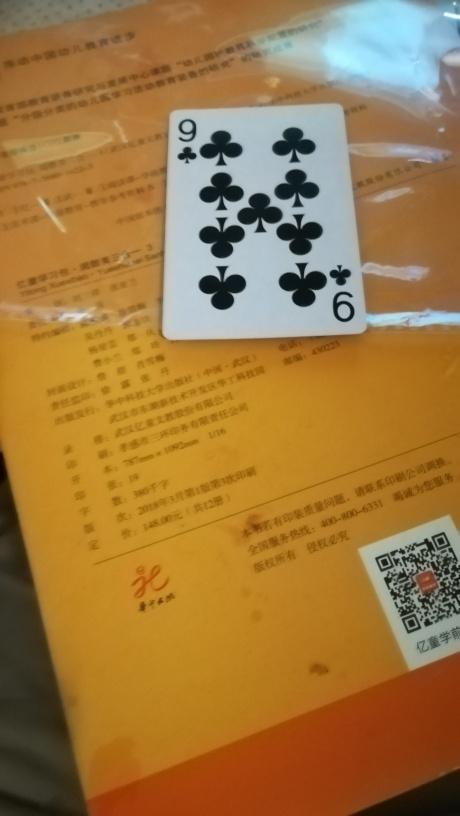mh 9: (161, 101, 367, 340)
